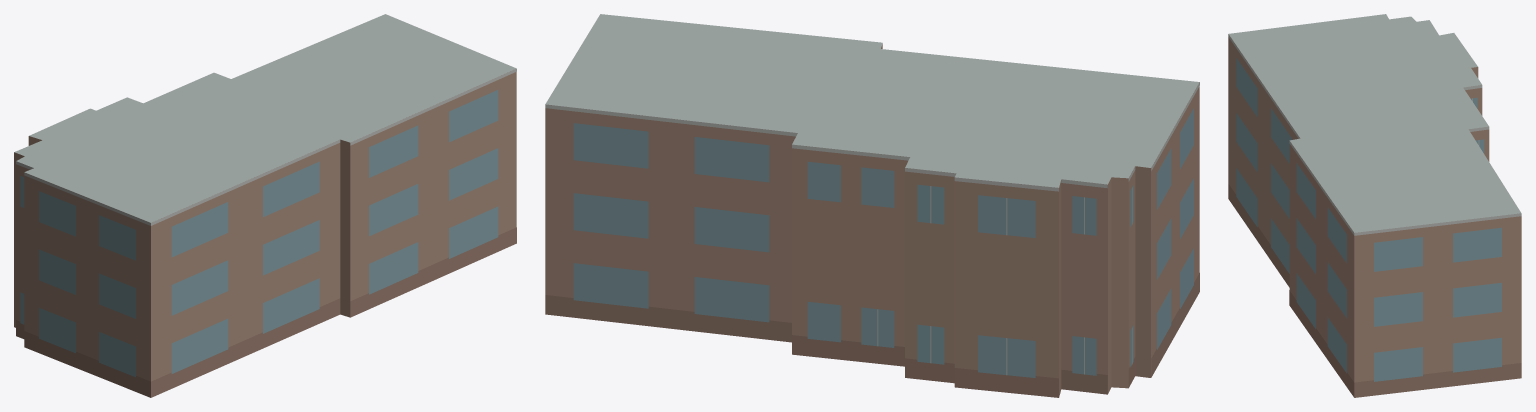
File: survey-upis-32862379.glb
The picture shows the model from 3 angles, left to right: view 1: azimuth 30°, elevation 25°; view 2: azimuth 150°, elevation 25°; view 3: azimuth 270°, elevation 25°; orthographic projection. The views are drawn at different scales.
Visible parts, largest first — view 1: survey-upis-32862379.tmp; view 2: survey-upis-32862379.tmp; view 3: survey-upis-32862379.tmp.
Part boxes in pixels (x1=…): survey-upis-32862379.tmp: x1=14, y1=14, x2=516, y2=397; survey-upis-32862379.tmp: x1=545, y1=14, x2=1199, y2=397; survey-upis-32862379.tmp: x1=1228, y1=14, x2=1521, y2=397.
Bounding box in the file's own units: 39.21 × 13.78 × 22.19.
